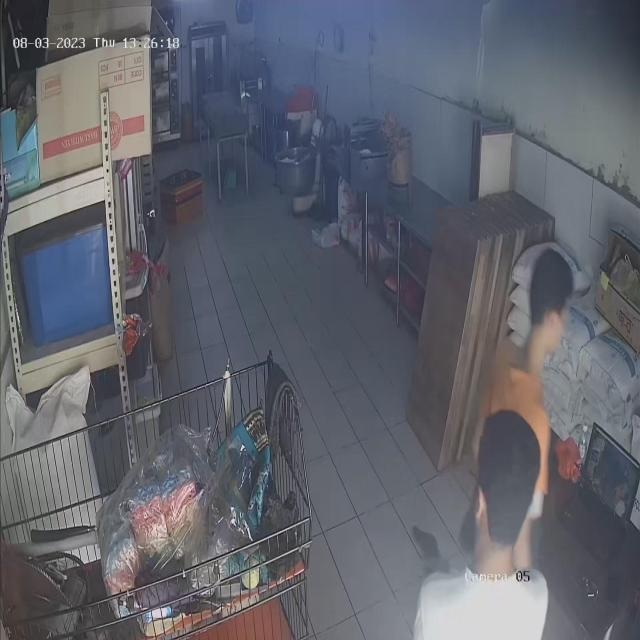Gun: (395, 501, 446, 564)
